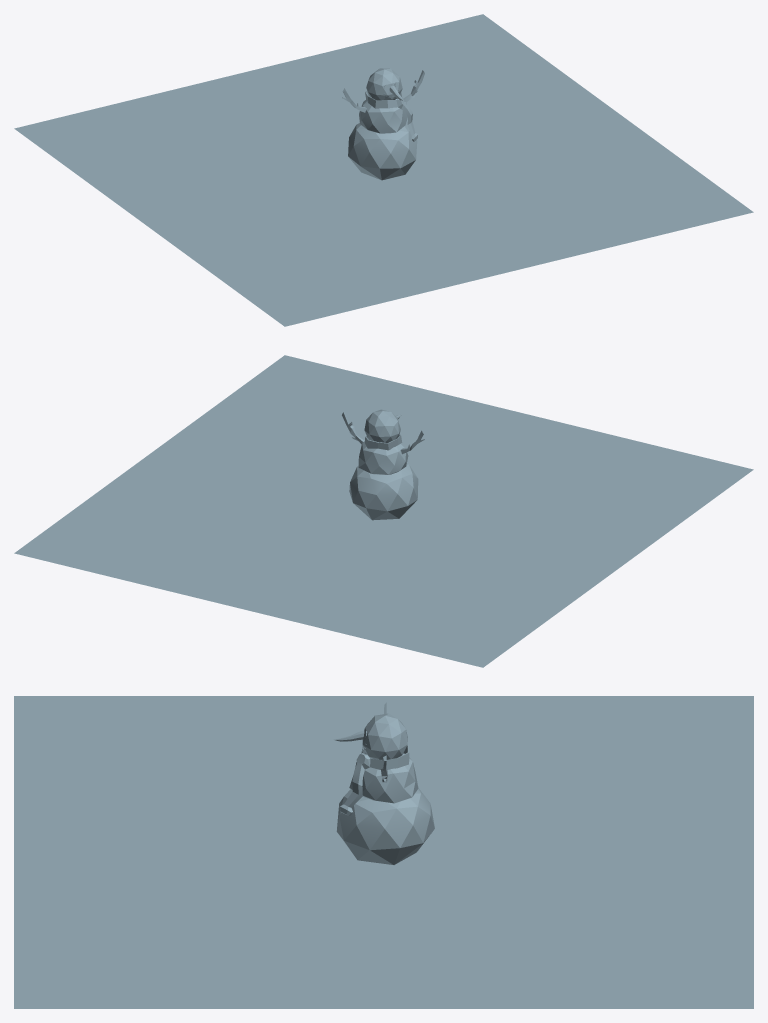
The model's file is Tile 57_Combined_3.fbx.
3 renders of one model, top to bottom at view 1: azimuth 30°, elevation 25°; view 2: azimuth 150°, elevation 25°; view 3: azimuth 270°, elevation 25°, orthographic. The views are drawn at different scales.
Parts seen in each view (by area): view 1: MeshBaker_mesh_mesh; view 2: MeshBaker_mesh_mesh; view 3: MeshBaker_mesh_mesh.
Part boxes in pixels (x1=…): MeshBaker_mesh_mesh: x1=14, y1=14, x2=753, y2=326; MeshBaker_mesh_mesh: x1=14, y1=355, x2=753, y2=667; MeshBaker_mesh_mesh: x1=14, y1=696, x2=753, y2=1008.
Bounding box in the file's own units: 3000 × 615 × 3000.
